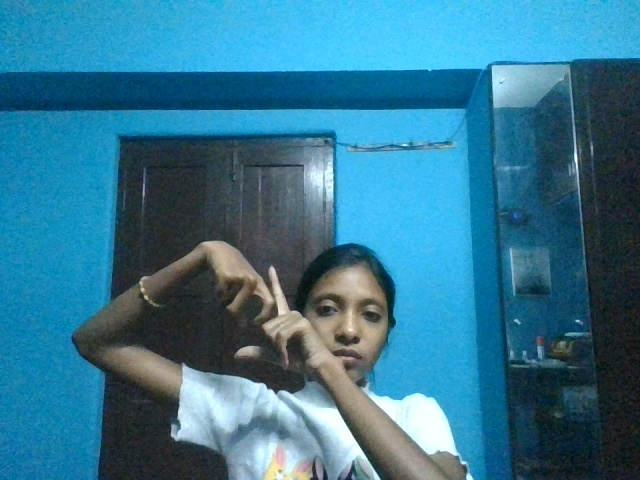K: (197, 237, 345, 389)
